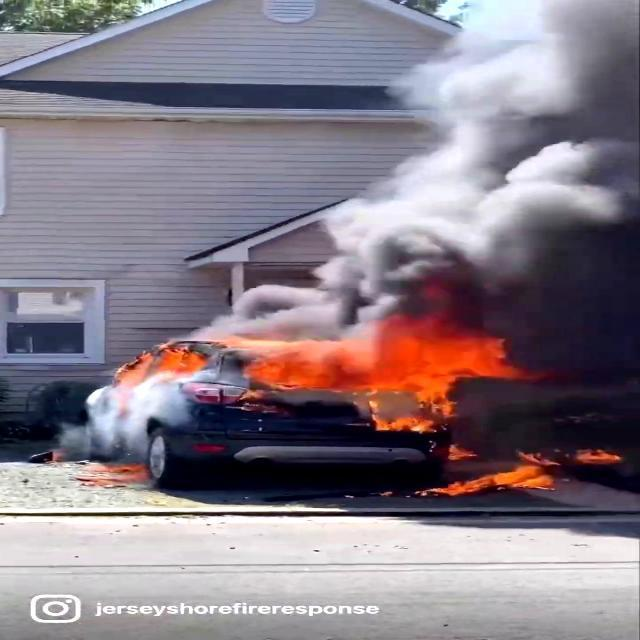Fire: (228, 318, 510, 432), (418, 450, 569, 504), (135, 341, 221, 380)
Smoke: (279, 0, 640, 333)
